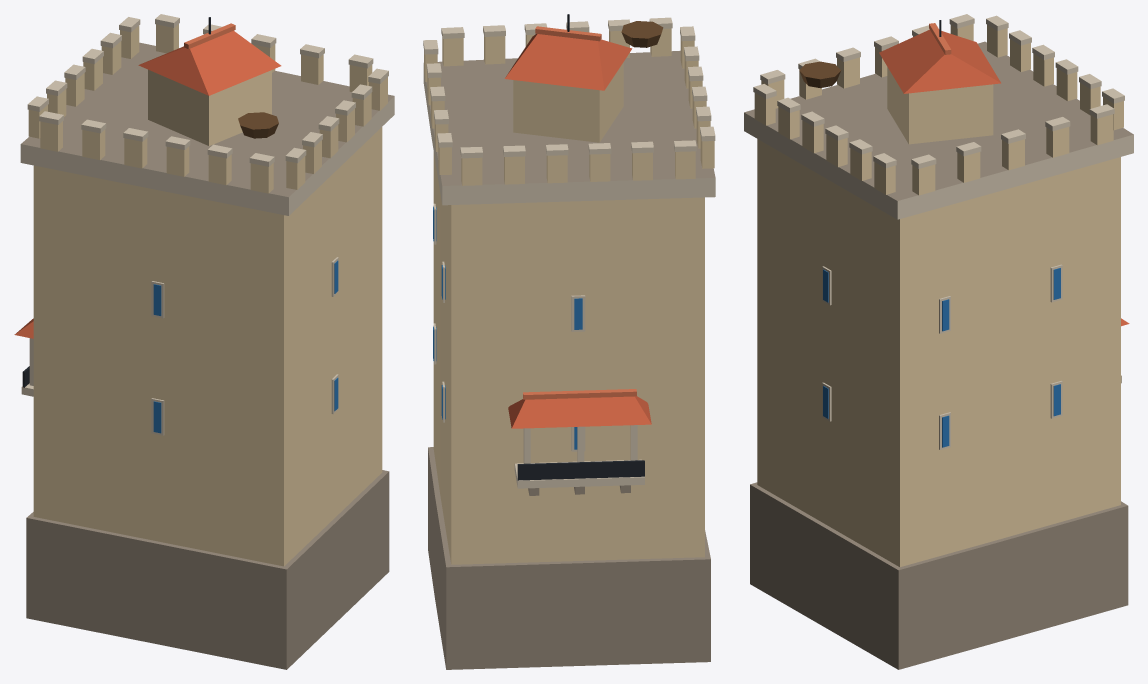
3 views of the same model, side by side, from view 1: azimuth 30°, elevation 25°; view 2: azimuth 150°, elevation 25°; view 3: azimuth 270°, elevation 25° (orthographic). The views are drawn at different scales.
Parts seen in each view (by area): view 1: w385037728_TorreBujaco; view 2: w385037728_TorreBujaco; view 3: w385037728_TorreBujaco.
Boxes of the visible parts, x1,y1,x2,y2 form: w385037728_TorreBujaco: [14, 14, 394, 669]; w385037728_TorreBujaco: [423, 14, 715, 669]; w385037728_TorreBujaco: [744, 14, 1133, 669].
Size of the model in its own units: 16.49 by 27.6 by 17.02.
2 materials, 2 textured.
